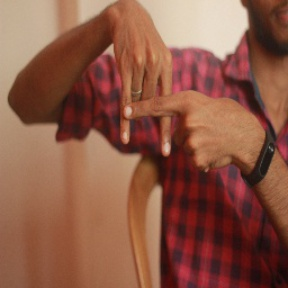H: (87, 50, 196, 159)
